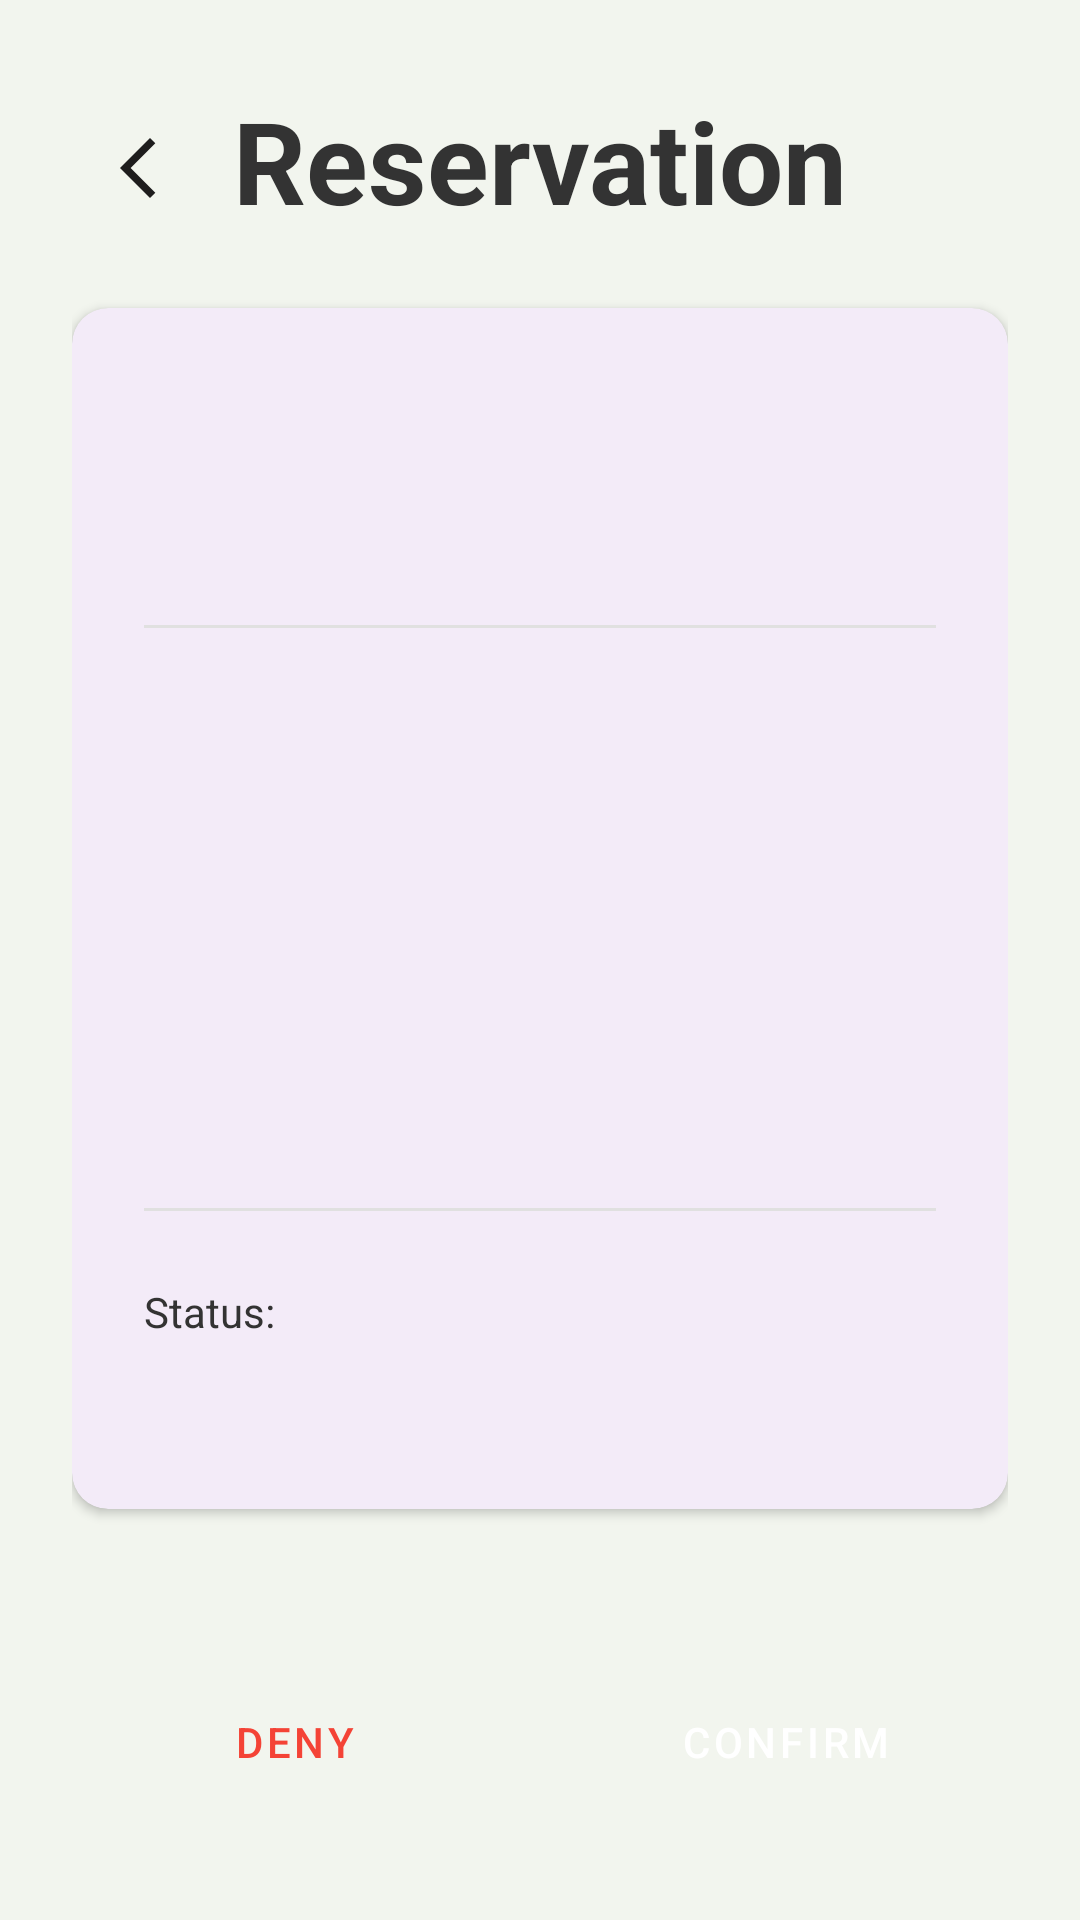

Screen size 1080 × 1920. Icon name, then its center in pixels as [x,y]:
return: [137,168]
